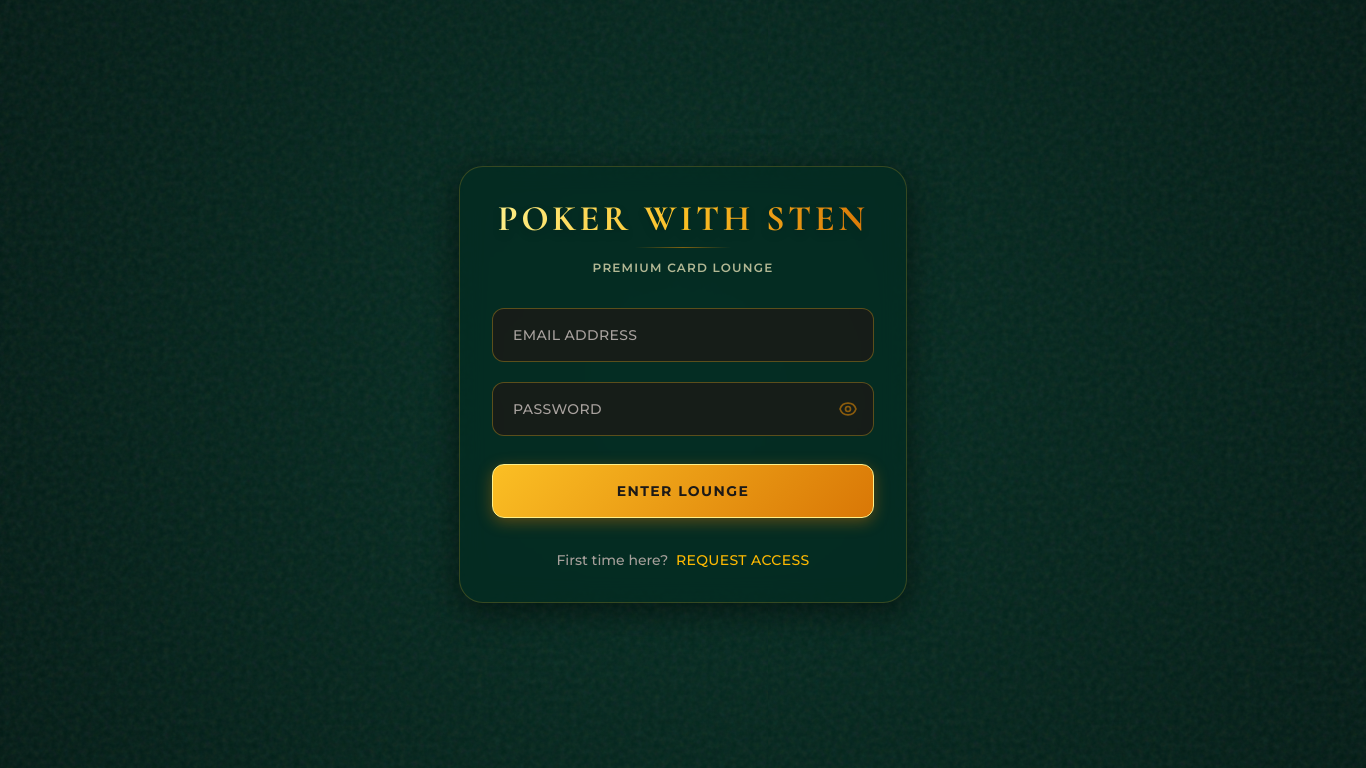
Test case: Login Component › displays an error message when login fails with a response data message
Step 1. Type "test@example.com" into the field with placeholder "EMAIL ADDRESS" → (683, 334), box left=492, top=308, right=874, bottom=362
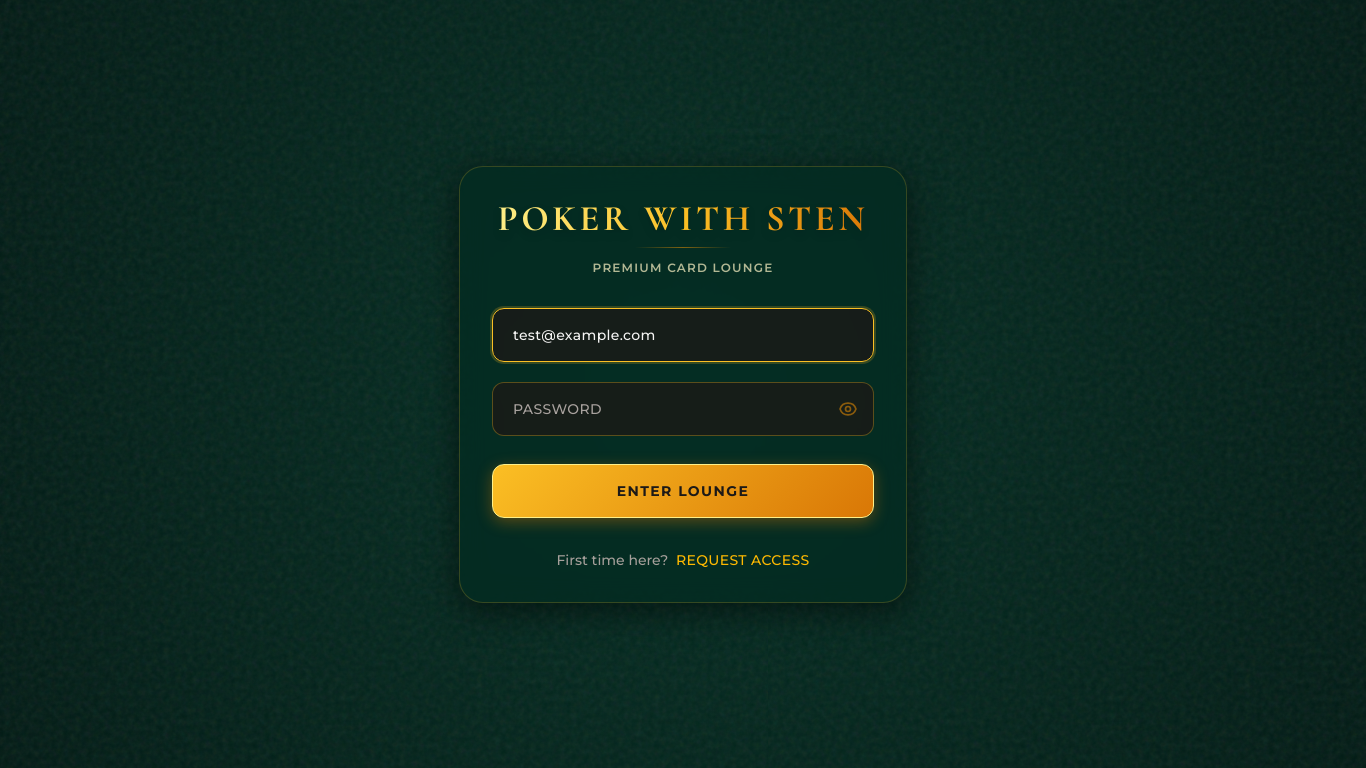
Step 2. Type "wrongpassword" into the password field with placeholder "PASSWORD" → (683, 408), box left=492, top=382, right=874, bottom=436
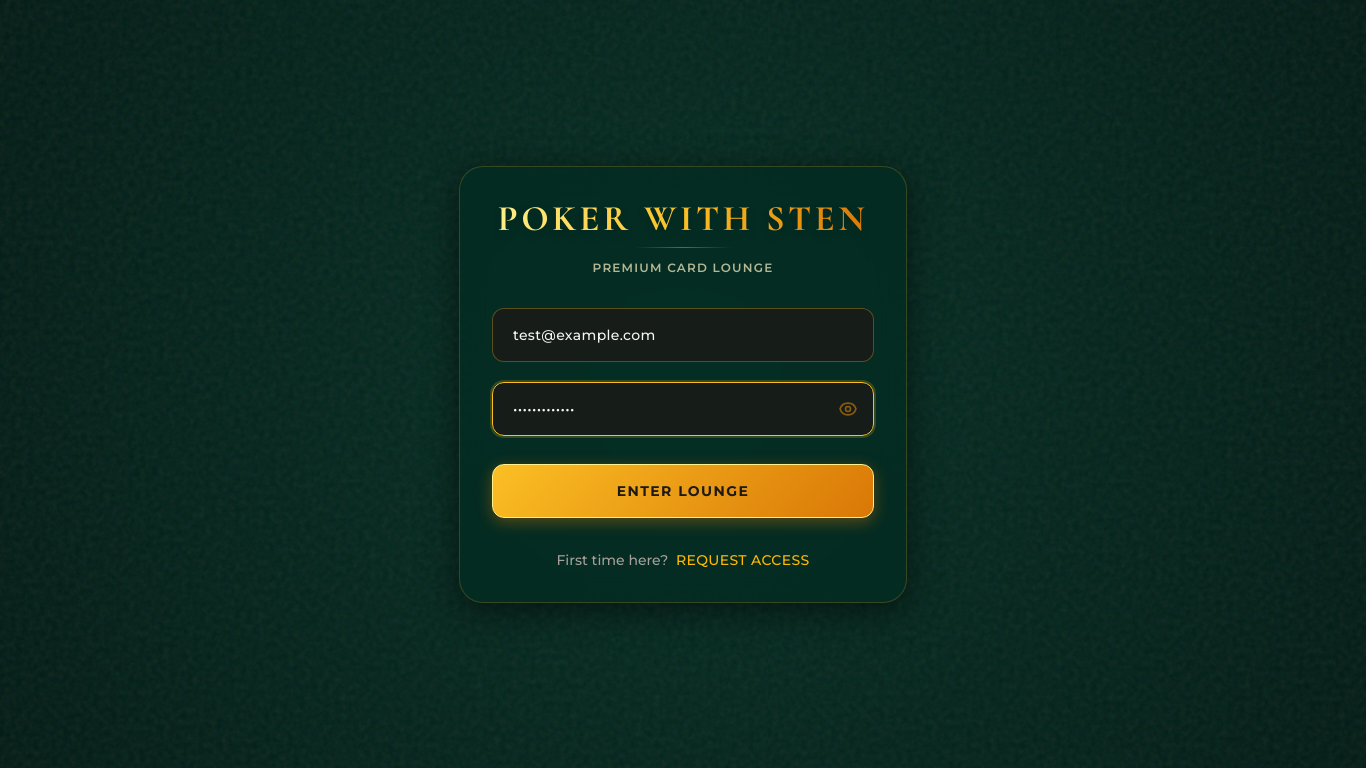
Note: Submit form
Step 3. Click the button "Enter Lounge" → (683, 490), box left=492, top=464, right=874, bottom=518
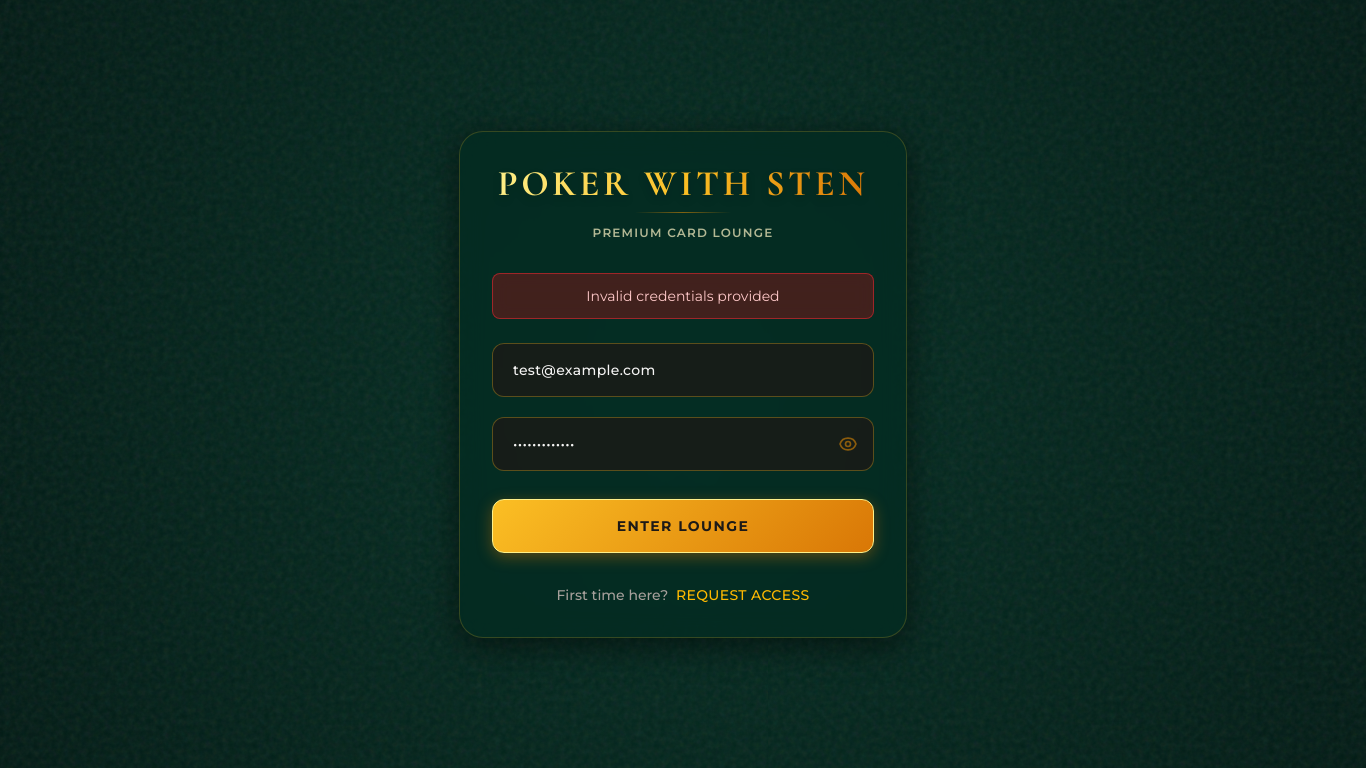
Expected: the text "Invalid credentials provided" is shown, left=492, top=272, right=874, bottom=318
